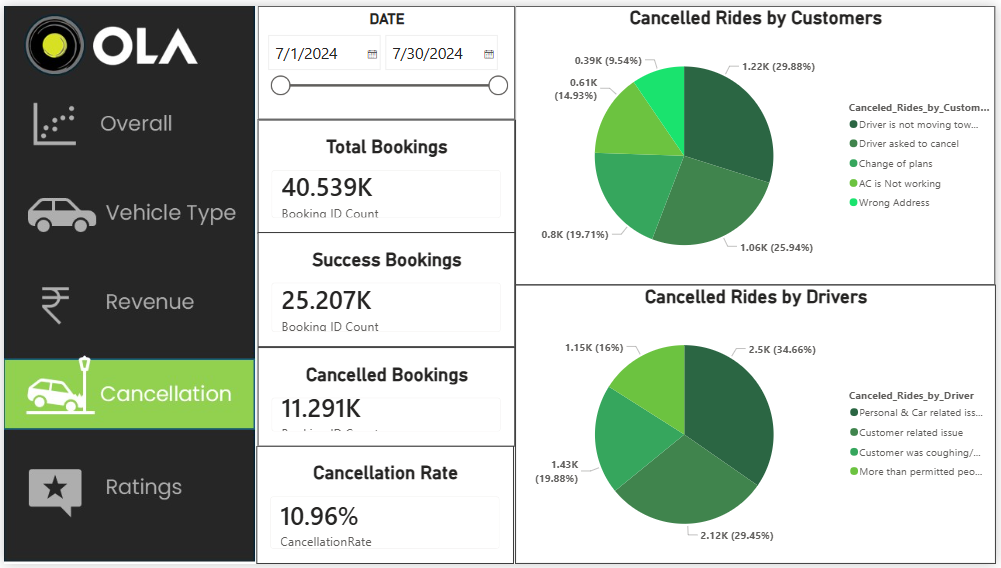

The dashboard page shown, as its layout file describes it:
{"tool":"powerbi","page":{"name":"Cancellation","canvas":[1280,720],"ordinal":3},"visuals":[{"type":"actionButton","box":[0,210.2,326.5,112.2],"z":0},{"type":"actionButton","box":[0,322.4,326.5,110.2],"z":1000},{"type":"actionButton","box":[0,453.1,326.5,87.8],"z":2000},{"type":"actionButton","box":[0,559.2,326.5,132.7],"z":3000},{"type":"actionButton","box":[0,104.1,326.5,106.1],"z":4000},{"type":"pieChart","title":"Cancelled Rides by Customers","fields":{"Category":["July.Canceled_Rides_by_Customer"],"Y":["CountNonNull(July.Canceled_Rides_by_Customer)"]},"box":[660.2,0,619.5,360.2],"z":5000},{"type":"pieChart","title":"Cancelled Rides by Drivers","fields":{"Category":["July.Canceled_Rides_by_Driver"],"Y":["CountNonNull(July.Canceled_Rides_by_Driver)"]},"box":[660,360,620,360],"z":6000},{"type":"slicer","title":"DATE","fields":{"Values":["July.Date"]},"box":[328,0,332,146],"z":7000},{"type":"cardVisual","title":"Total Bookings ","fields":{"Data":["CountNonNull(July.Booking_ID)"]},"box":[328,146,332,146],"z":8000},{"type":"cardVisual","title":"Success Bookings ","fields":{"Data":["CountNonNull(July.Booking_ID)"]},"box":[328,292,332,148],"z":9000},{"type":"cardVisual","title":"Cancelled Bookings ","fields":{"Data":["CountNonNull(July.Booking_ID)"]},"box":[328,440,332,128],"z":10000},{"type":"cardVisual","title":"Cancellation Rate ","fields":{"Data":["July.CancellationRate"]},"box":[326,568,332,152],"z":11000}]}

Visuals, with their boxes in screenshot pixels (x1, y1, x2, y2), scaled from the page's 1280x720 canvas onto the 1001x568 screenshot:
actionButton: [left=0, top=166, right=255, bottom=254]
actionButton: [left=0, top=254, right=255, bottom=341]
actionButton: [left=0, top=357, right=255, bottom=427]
actionButton: [left=0, top=441, right=255, bottom=546]
actionButton: [left=0, top=82, right=255, bottom=166]
"Cancelled Rides by Customers" pieChart: [left=516, top=0, right=1000, bottom=284]
"Cancelled Rides by Drivers" pieChart: [left=516, top=284, right=1000, bottom=567]
"DATE" slicer: [left=257, top=0, right=516, bottom=115]
"Total Bookings " cardVisual: [left=257, top=115, right=516, bottom=230]
"Success Bookings " cardVisual: [left=257, top=230, right=516, bottom=347]
"Cancelled Bookings " cardVisual: [left=257, top=347, right=516, bottom=448]
"Cancellation Rate " cardVisual: [left=255, top=448, right=515, bottom=567]
